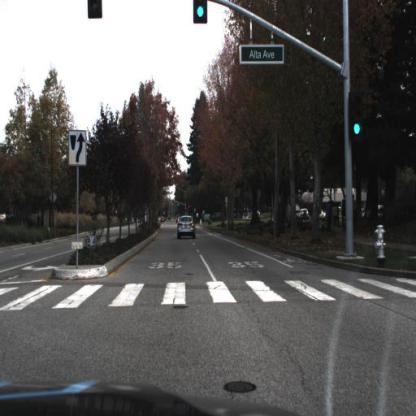car: (178, 213, 199, 242), (306, 197, 329, 220)
pedestrian: (341, 196, 348, 232), (341, 194, 348, 228), (351, 193, 357, 227), (352, 196, 358, 224), (37, 212, 42, 227)
